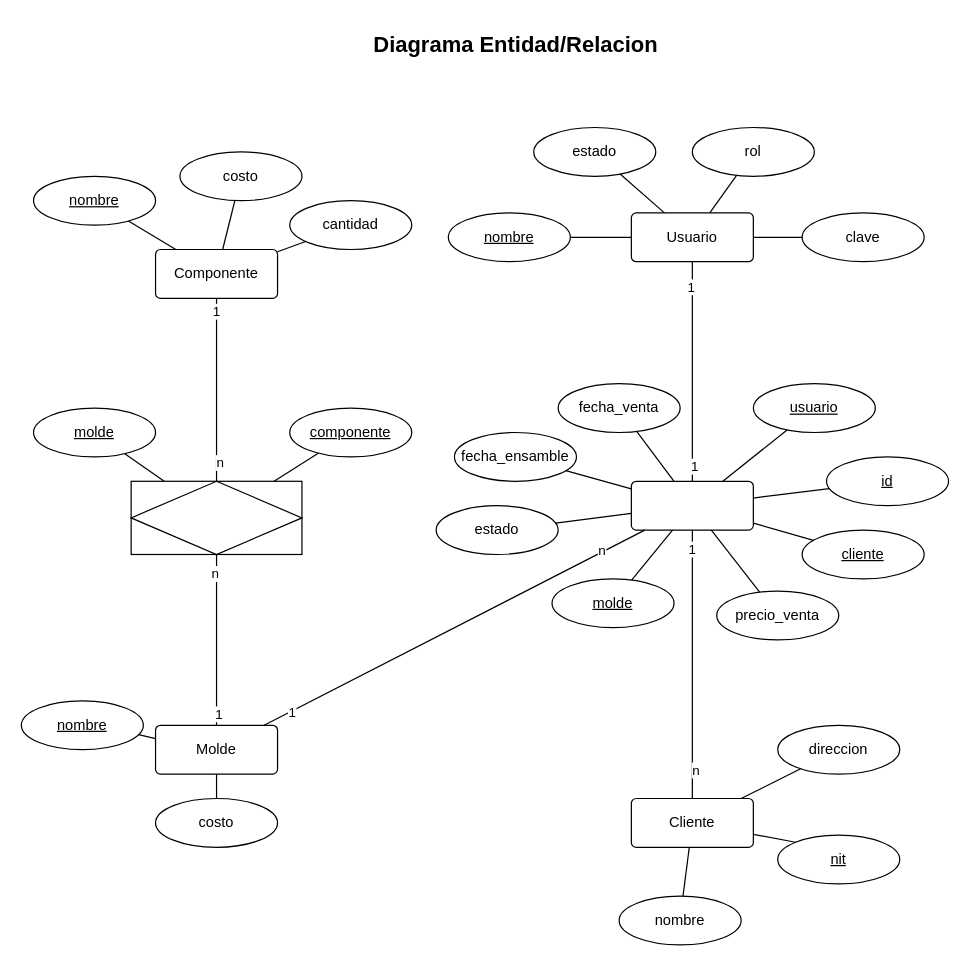
Some shapes in this 970 by 966 pixel diagram are drawn without their labels. The shapes that lost their labels are listed below. From the top down, each one's box as (x1, y1, x2, y2) in pixels, then its label:
(130, 480, 302, 554): Molde-Componente
(630, 480, 753, 530): Computadora
